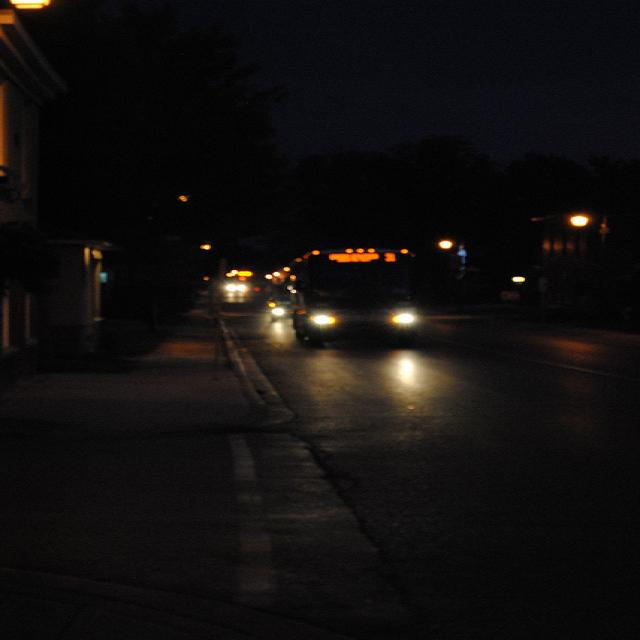Bus: (281, 228, 458, 394)
car: (207, 278, 251, 316)
